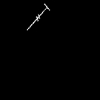treble_crochet: (27, 6, 48, 29)
